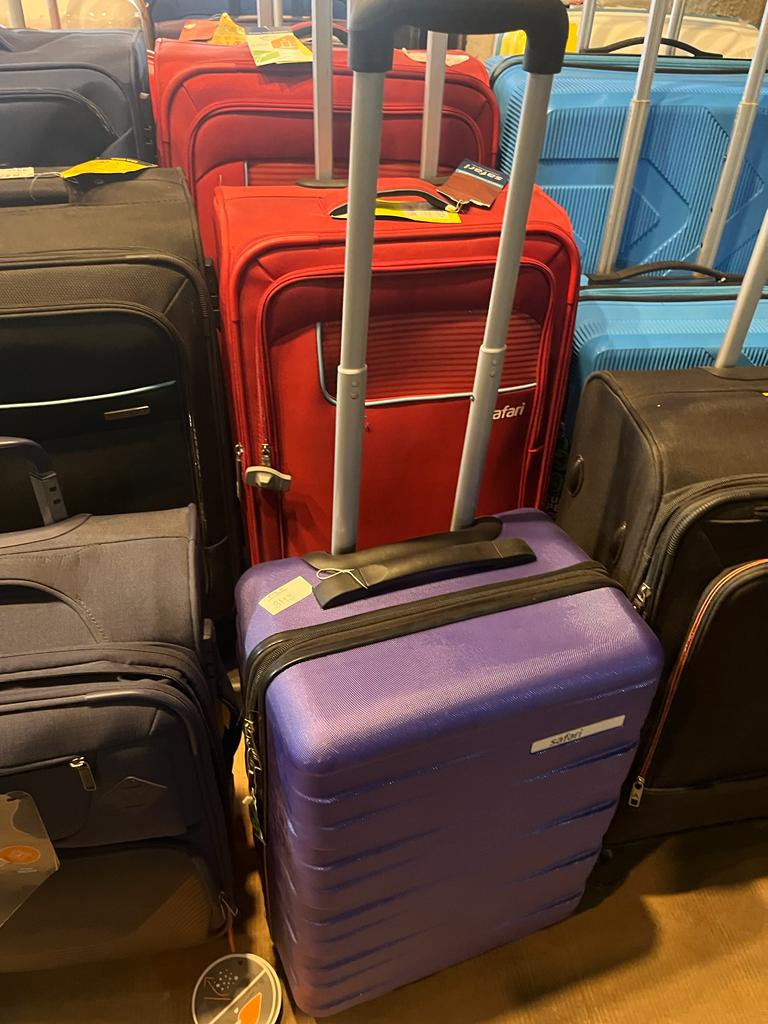Bag: (222, 0, 655, 1001), (219, 170, 576, 539), (1, 505, 235, 890), (589, 353, 768, 836), (0, 165, 225, 485)
Handle: (321, 0, 575, 570), (285, 3, 466, 194), (720, 196, 768, 389)
